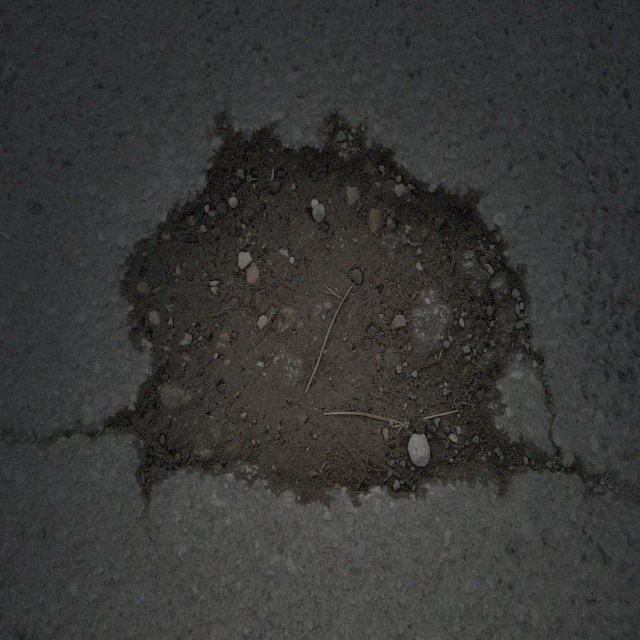pothole: (118, 107, 531, 511)
